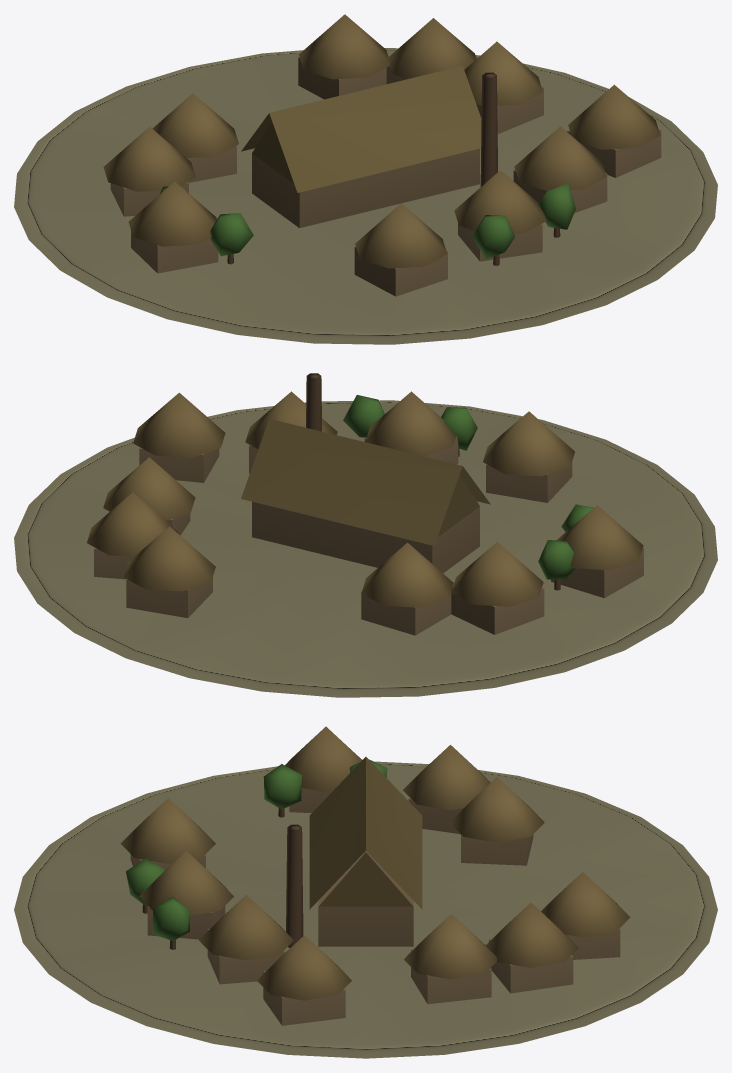
File: settlement_1_0.glb
3 views of the same model, one above another, from view 1: azimuth 30°, elevation 25°; view 2: azimuth 150°, elevation 25°; view 3: azimuth 270°, elevation 25° (orthographic).
Parts seen in each view (by area): view 1: part_0; view 2: part_0; view 3: part_0.
Part boxes in pixels (bbox=[...]): part_0: bbox=[14, 14, 717, 344]; part_0: bbox=[14, 373, 717, 697]; part_0: bbox=[14, 726, 717, 1058].
Size of the model in its own units: 30.8 by 6.04 by 30.8.
